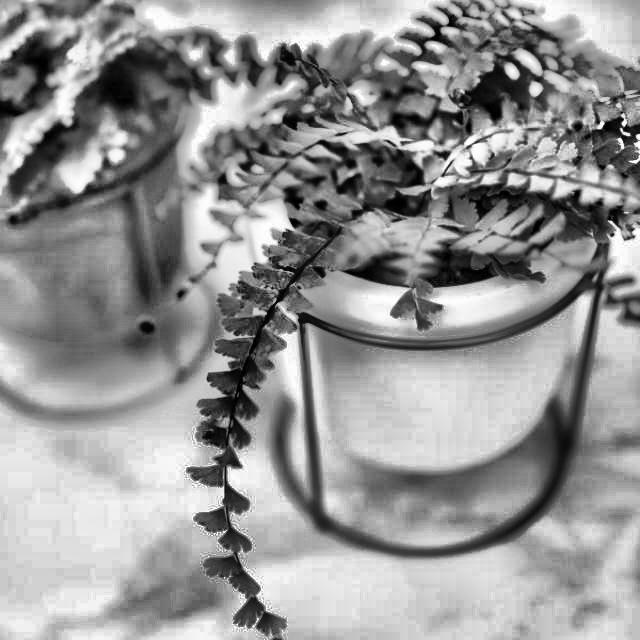plants: (216, 36, 621, 632)
